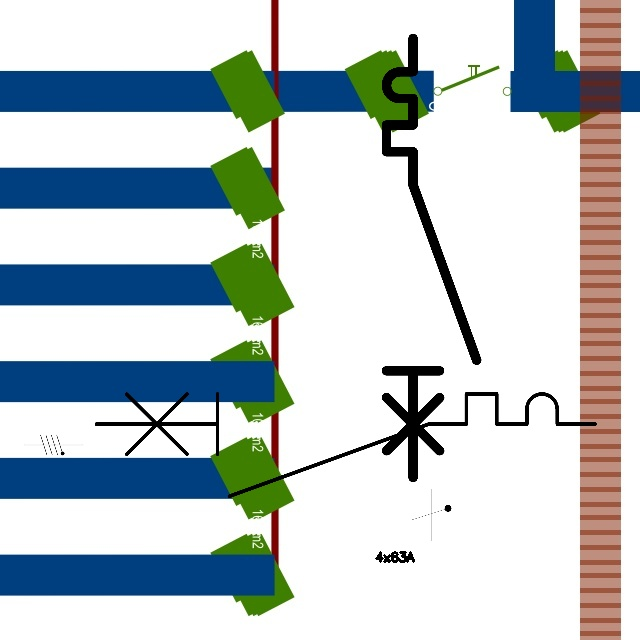interruptor_termomagnetico: (83, 381, 607, 509), (375, 27, 488, 488)
